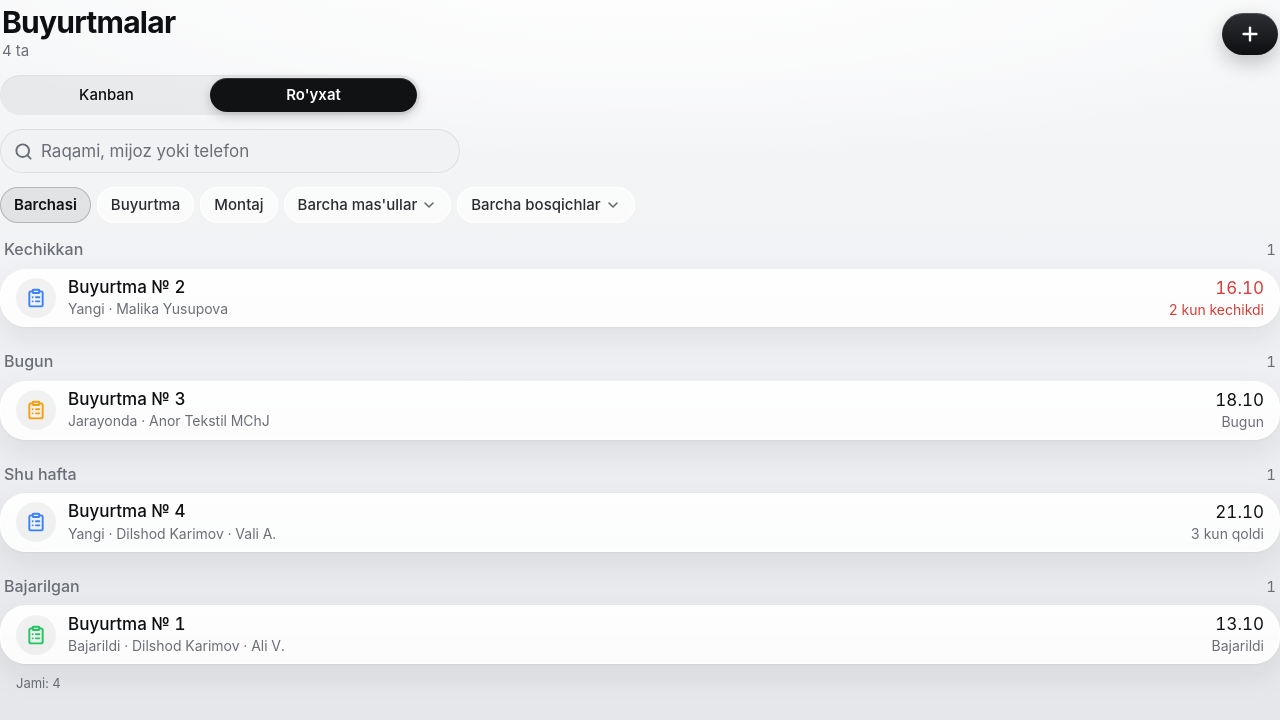
Test case: what is wrong with the form is said in the API's words, all at once
Click the button named "Buyurtma qo'shish". click: (1250, 34)
box: [1222,13,1278,55]
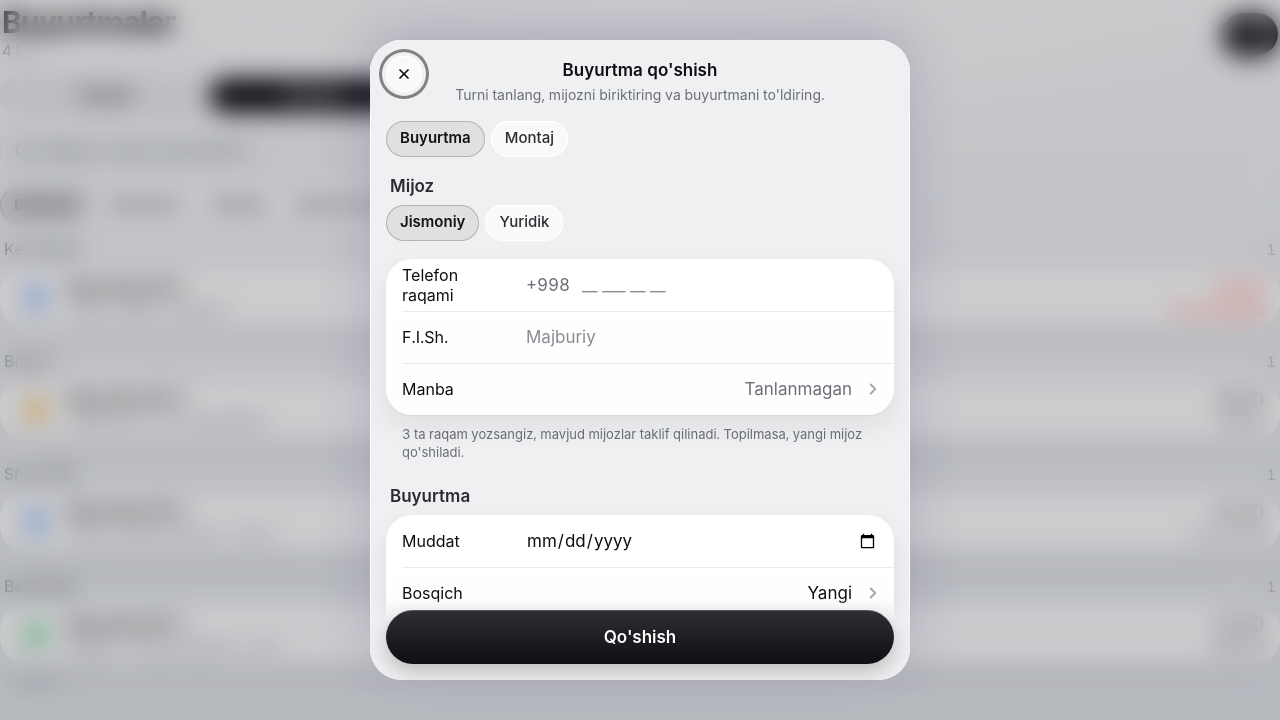
Click the radio button labelled "Montaj". click: (529, 138)
box: [491,120,568,156]
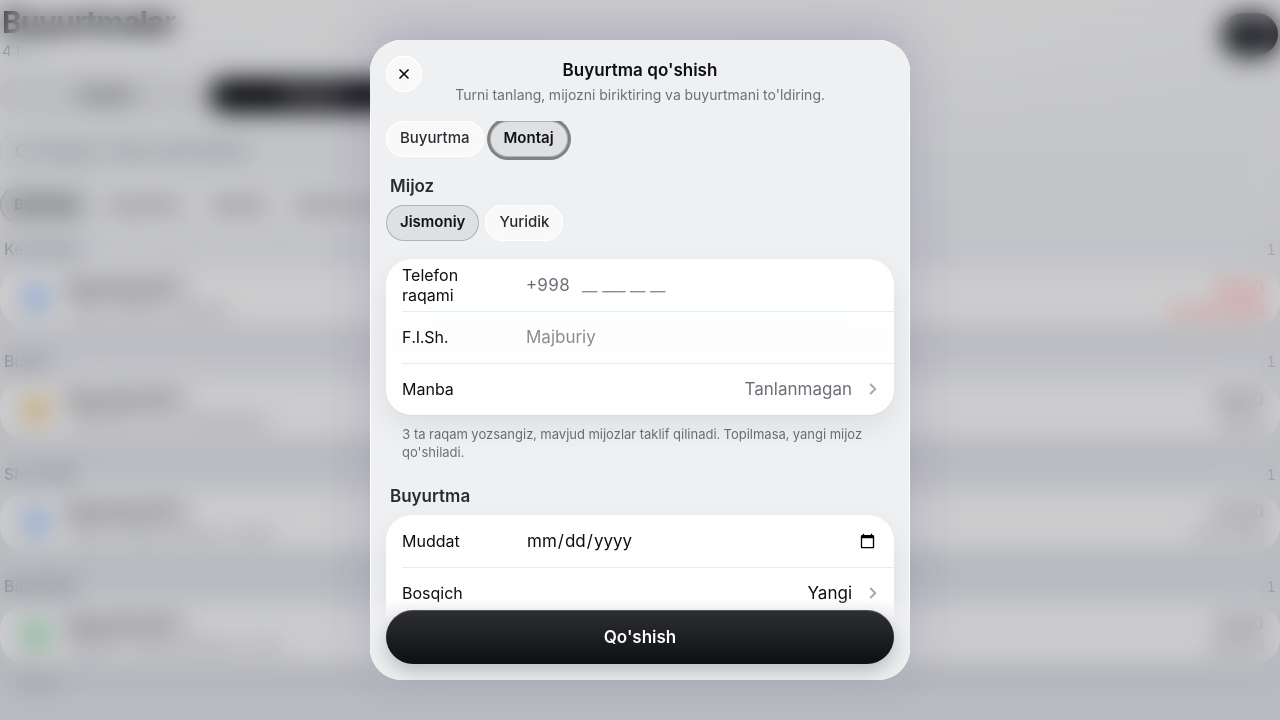
Type "90 111" into the dropdown labelled "Telefon raqami". click: (730, 285)
box: [582,263,878,307]
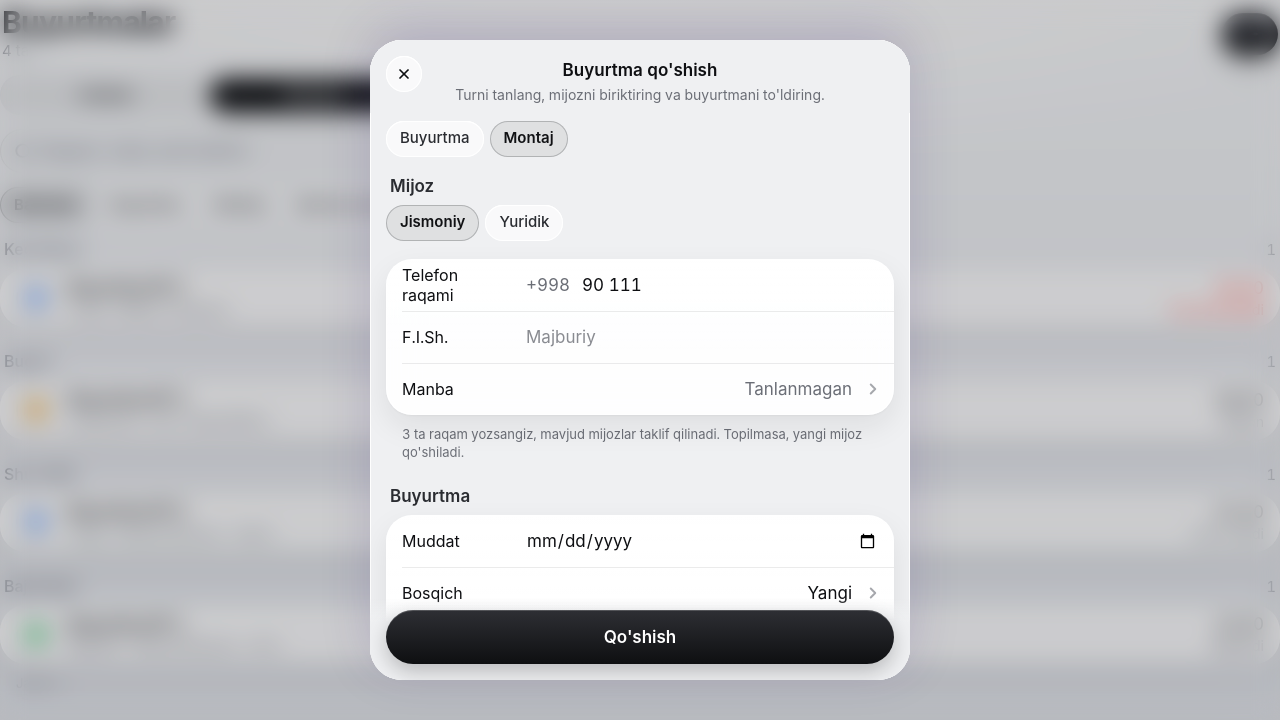
Click the button "Qo'shish". click: (640, 637)
box: [386,610,894,664]
(page scrolled)
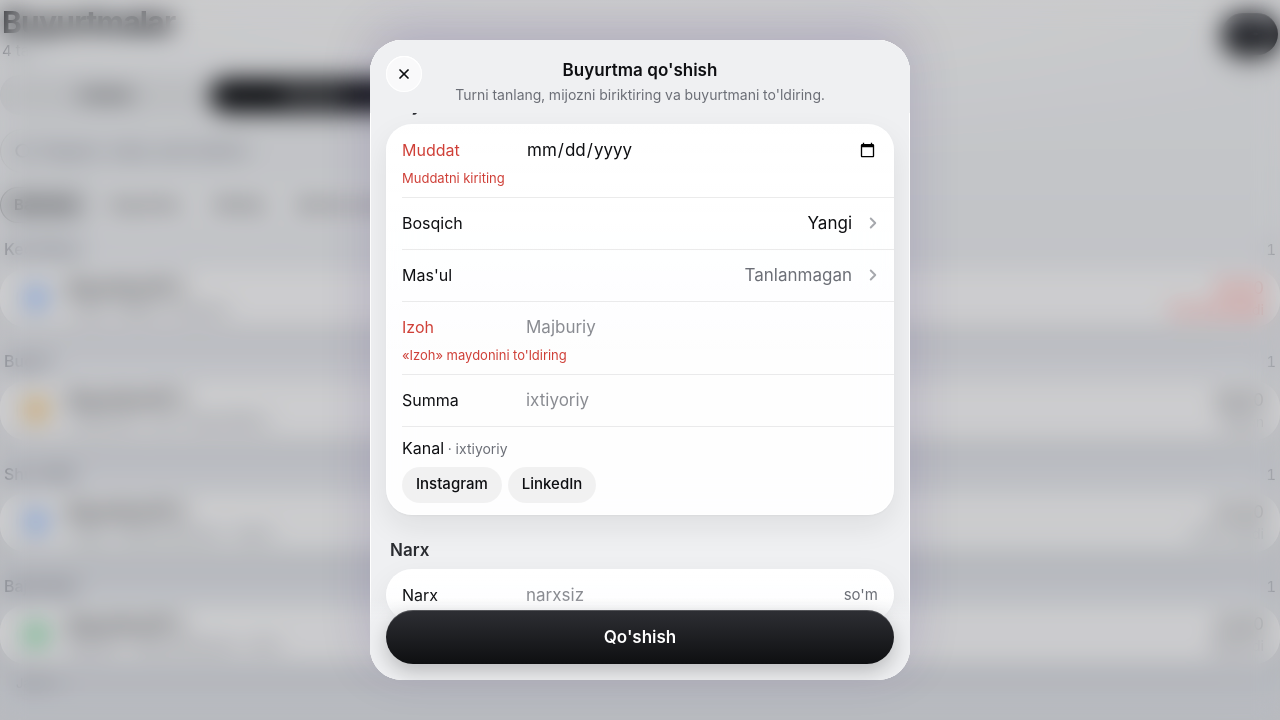
Result: the text "Muddatni kiriting" is shown at [402,170,505,186]
Result: the text "«Izoh» maydonini to'ldiring" is shown at [402,347,567,363]
